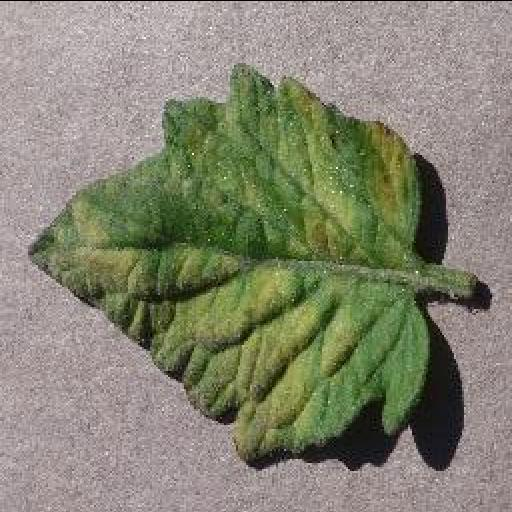disease_tomato: (25, 64, 431, 462)
